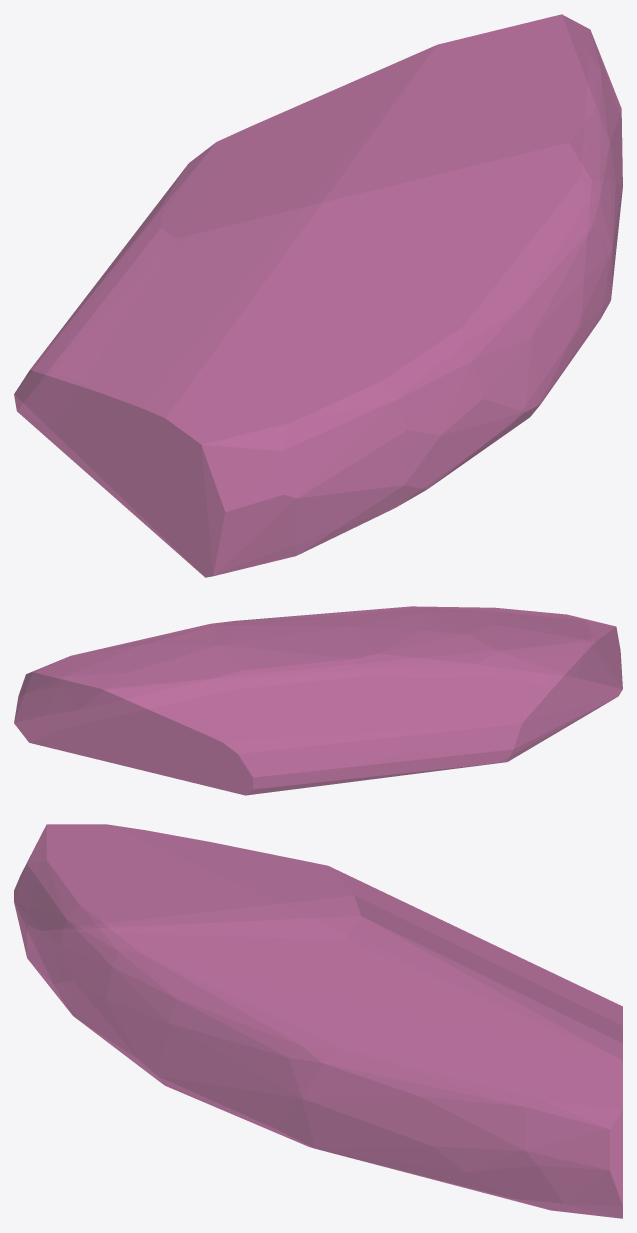
The picture shows the model from 3 angles, top to bottom: view 1: azimuth 30°, elevation 25°; view 2: azimuth 150°, elevation 25°; view 3: azimuth 270°, elevation 25°; orthographic projection. The views are drawn at different scales.
Parts seen in each view (by area): view 1: Shape_IndexedFaceSet.007_Shape_IndexedFaceSet.12880; view 2: Shape_IndexedFaceSet.007_Shape_IndexedFaceSet.12880; view 3: Shape_IndexedFaceSet.007_Shape_IndexedFaceSet.12880.
Part boxes in pixels (bbox=[...]): Shape_IndexedFaceSet.007_Shape_IndexedFaceSet.12880: bbox=[14, 14, 622, 577]; Shape_IndexedFaceSet.007_Shape_IndexedFaceSet.12880: bbox=[14, 606, 622, 795]; Shape_IndexedFaceSet.007_Shape_IndexedFaceSet.12880: bbox=[14, 824, 622, 1218].
Bounding box in the file's own units: 0.27 × 0.045 × 0.2325.
